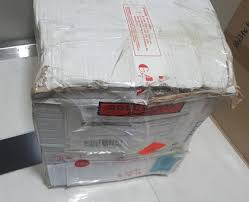damaged package: (32, 88, 234, 102)
